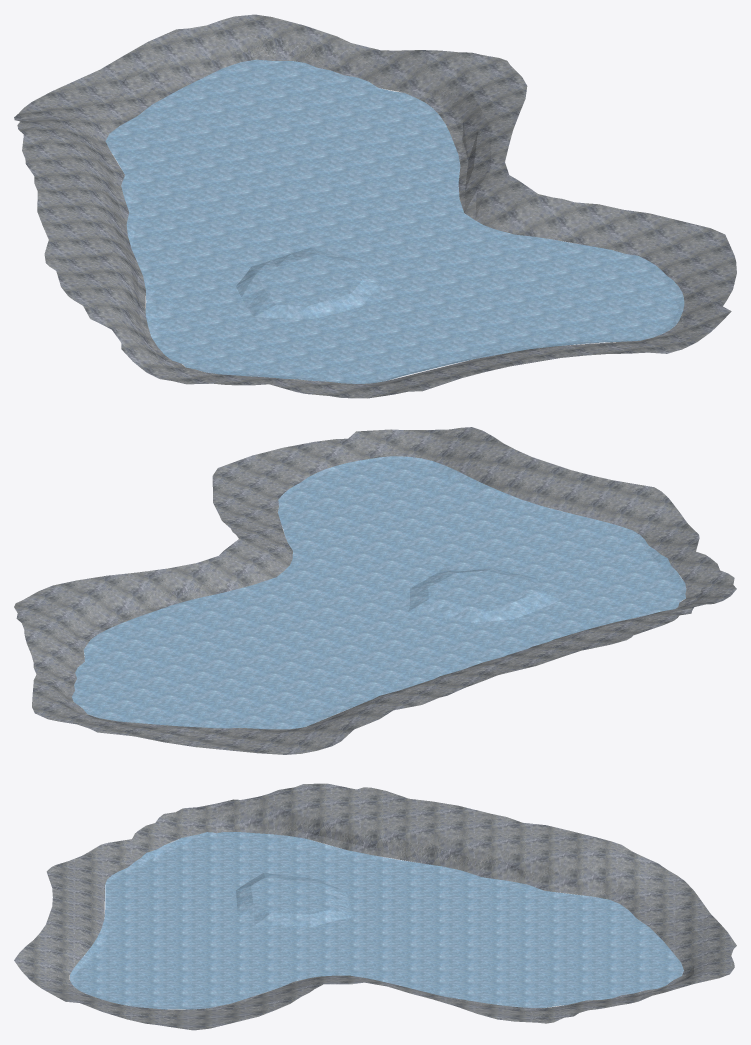
File: ice_lake_3-close.glb
3 views of the same model, one above another, from view 1: azimuth 30°, elevation 25°; view 2: azimuth 150°, elevation 25°; view 3: azimuth 270°, elevation 25° (orthographic). The views are drawn at different scales.
Parts seen in each view (by area): view 1: ice_lake_c_LOD0; view 2: ice_lake_c_LOD0; view 3: ice_lake_c_LOD0.
Part boxes in pixels (x1,y1,x2,y2): ice_lake_c_LOD0: (14, 14, 736, 398); ice_lake_c_LOD0: (14, 427, 736, 754); ice_lake_c_LOD0: (14, 783, 736, 1030).
Bounding box in the file's own units: 170 × 10.69 × 228.
Materials: 2 (2 with a texture image).
